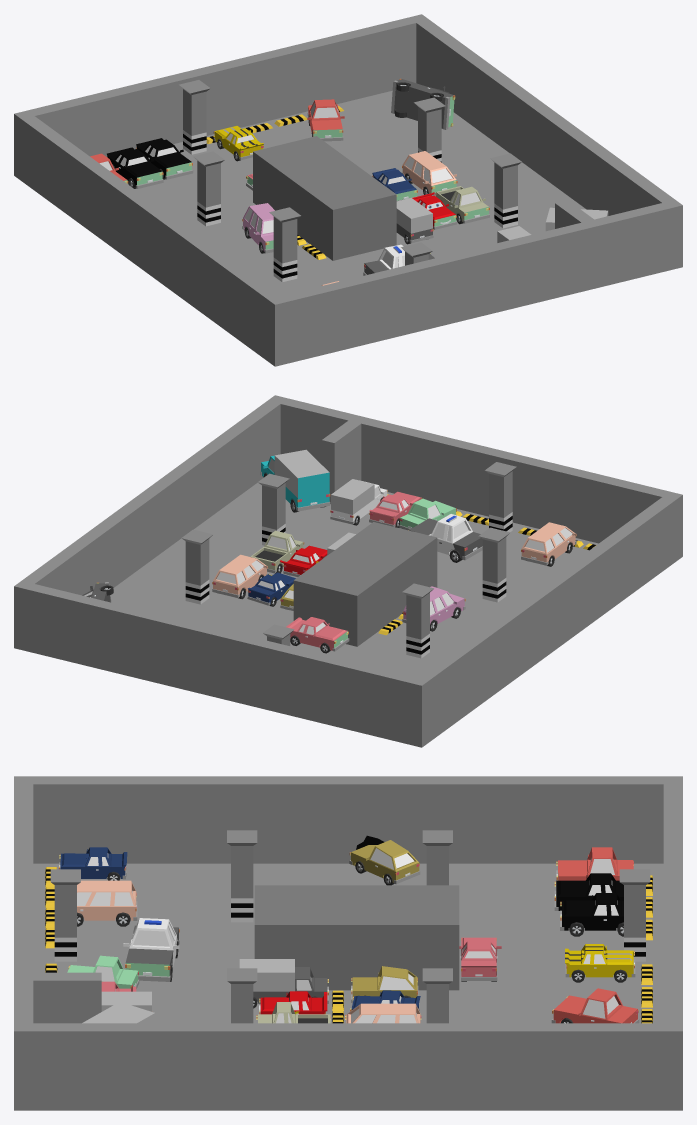
The model's file is parking.fbx.
3 renders of one model, top to bottom at view 1: azimuth 30°, elevation 25°; view 2: azimuth 150°, elevation 25°; view 3: azimuth 270°, elevation 25°, orthographic. The views are drawn at different scales.
Parts seen in each view (by area): view 1: Plane.005, Cube.034, Cube.036, car4.006, Cube.032, Cube.035, Cube.047, car5.003, car7.016, car9.005, Cube.033, car7.017 (+7 smaller); view 2: Plane.005, Cube.034, car9.007, car6.002, Cube.033, Cube.036, car9.004, Cube.035, car5.004, Cube.030, car5.003, car7.013 (+7 smaller); view 3: Plane.005, Cube.034, car6.002, car5.004, car9.005, car7.017, Cube.030, car1.006, Cube.036, car7.014, car10.004, Cube.047 (+15 smaller).
Boxes of the visible parts, x1,y1,x2,y2 form: Plane.005: (14,14,682,366); Cube.034: (253,136,396,260); Cube.036: (269,207,300,282); car4.006: (391,78,455,129); Cube.032: (490,153,521,228); Cube.035: (193,151,224,226); Cube.047: (179,80,210,154); car5.003: (401,151,457,196); car7.016: (107,147,163,188); car9.005: (396,198,433,244); Cube.033: (414,97,445,162); car7.017: (136,138,193,179); Plane.005: (14,395,682,747); Cube.034: (293,522,437,646); car9.007: (260,449,330,512); car6.002: (408,514,482,562); Cube.033: (181,529,213,604); Cube.036: (478,527,510,602); car9.004: (330,479,387,525); Cube.035: (402,583,433,658); car5.004: (521,522,576,566); Cube.030: (485,462,516,532); car5.003: (212,554,267,599); car7.013: (286,617,349,653); Plane.005: (14,776,682,1110); Cube.034: (254,885,459,990); car6.002: (123,918,179,981); car5.004: (77,880,137,926); car9.005: (239,959,328,1008); car7.017: (560,893,623,936); Cube.030: (50,869,80,961); car1.006: (551,988,639,1023); Cube.036: (227,830,257,922); car7.014: (565,944,635,982); car10.004: (349,840,420,885); Cube.047: (619,869,650,961).
Bounding box in the file's own units: 1552 × 250 × 1720.
